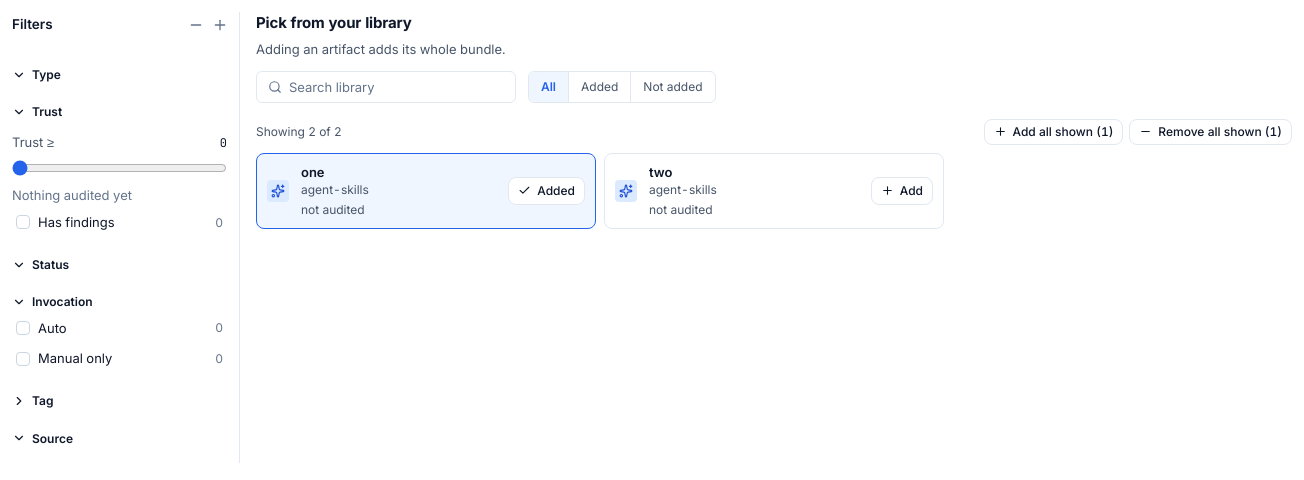
Picker › filters to Added and Not added
Expected: the text "two" is shown, top-left (649, 164), bottom-right (672, 180)
Click the 1st button "Added".
click(599, 87)  # box top-left (568, 72), bottom-right (630, 102)
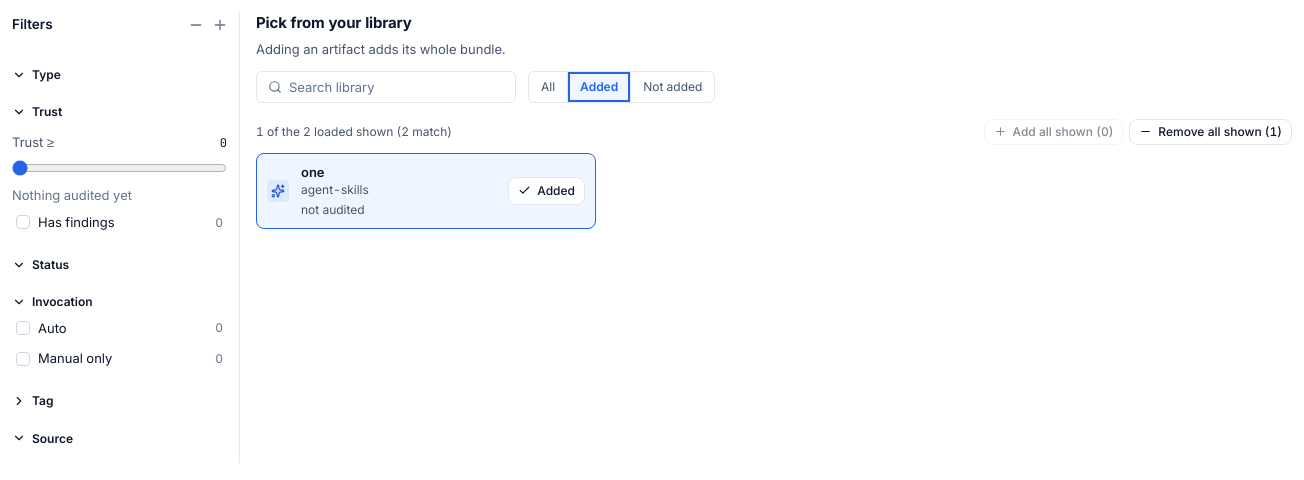
Expected: the text "one" is shown, top-left (301, 164), bottom-right (325, 180)
Expected: the text "two" is gone
Expected: the text "1 of the 2 loaded shown (2 match)" is shown, top-left (256, 123), bottom-right (452, 140)
Click the button "Not added".
click(672, 87)  # box top-left (630, 72), bottom-right (714, 102)
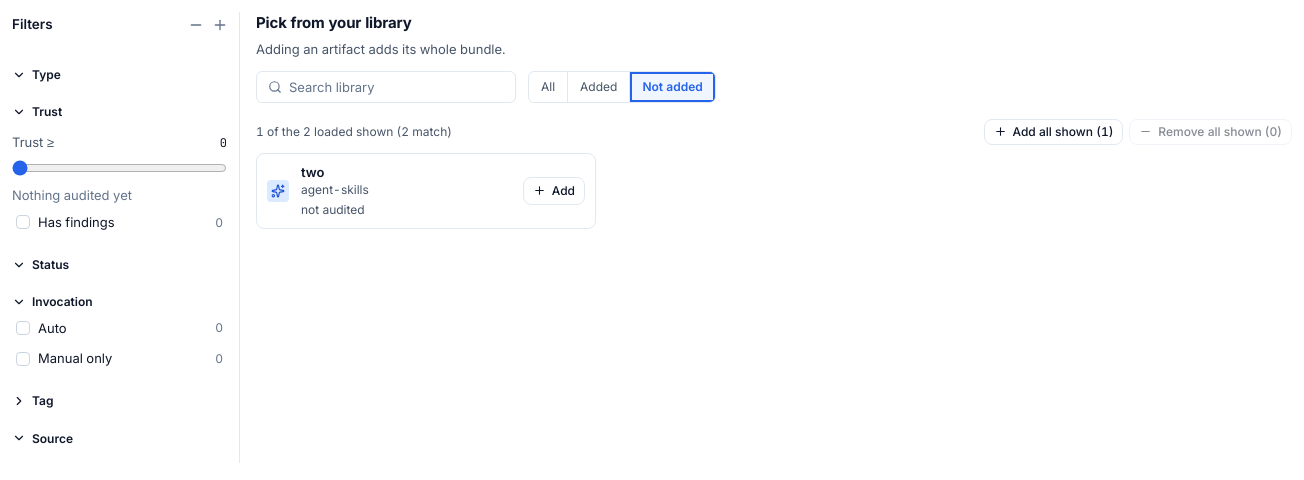
Expected: the text "one" is gone
Expected: the text "two" is shown, top-left (301, 164), bottom-right (324, 180)
